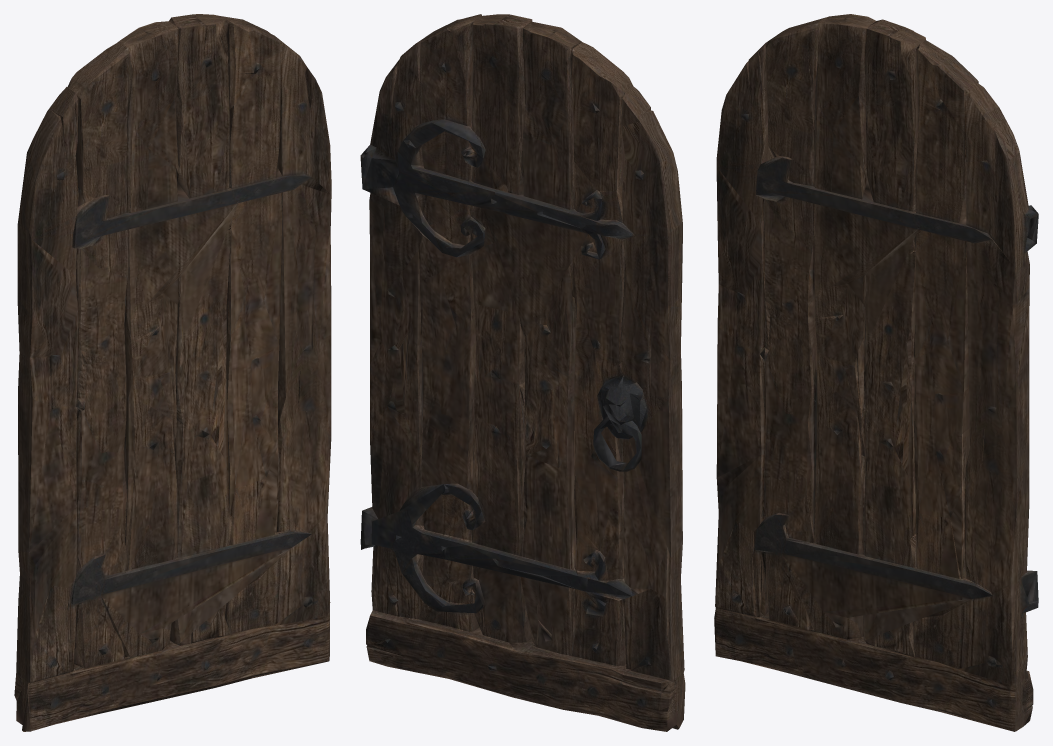
The model's file is sp_m_doorleaf.glb.
The picture shows the model from 3 angles, left to right: view 1: azimuth 30°, elevation 25°; view 2: azimuth 150°, elevation 25°; view 3: azimuth 330°, elevation 25°; orthographic projection.
Parts seen in each view (by area): view 1: Mesh_0; view 2: Mesh_0; view 3: Mesh_0.
Boxes of the visible parts, <box> form: Mesh_0: <box>14,14,331,731</box>; Mesh_0: <box>360,14,685,731</box>; Mesh_0: <box>714,14,1038,731</box>.
Size of the model in its own units: 0.9141 by 1.9 by 0.1519.
1 material, 1 textured.
